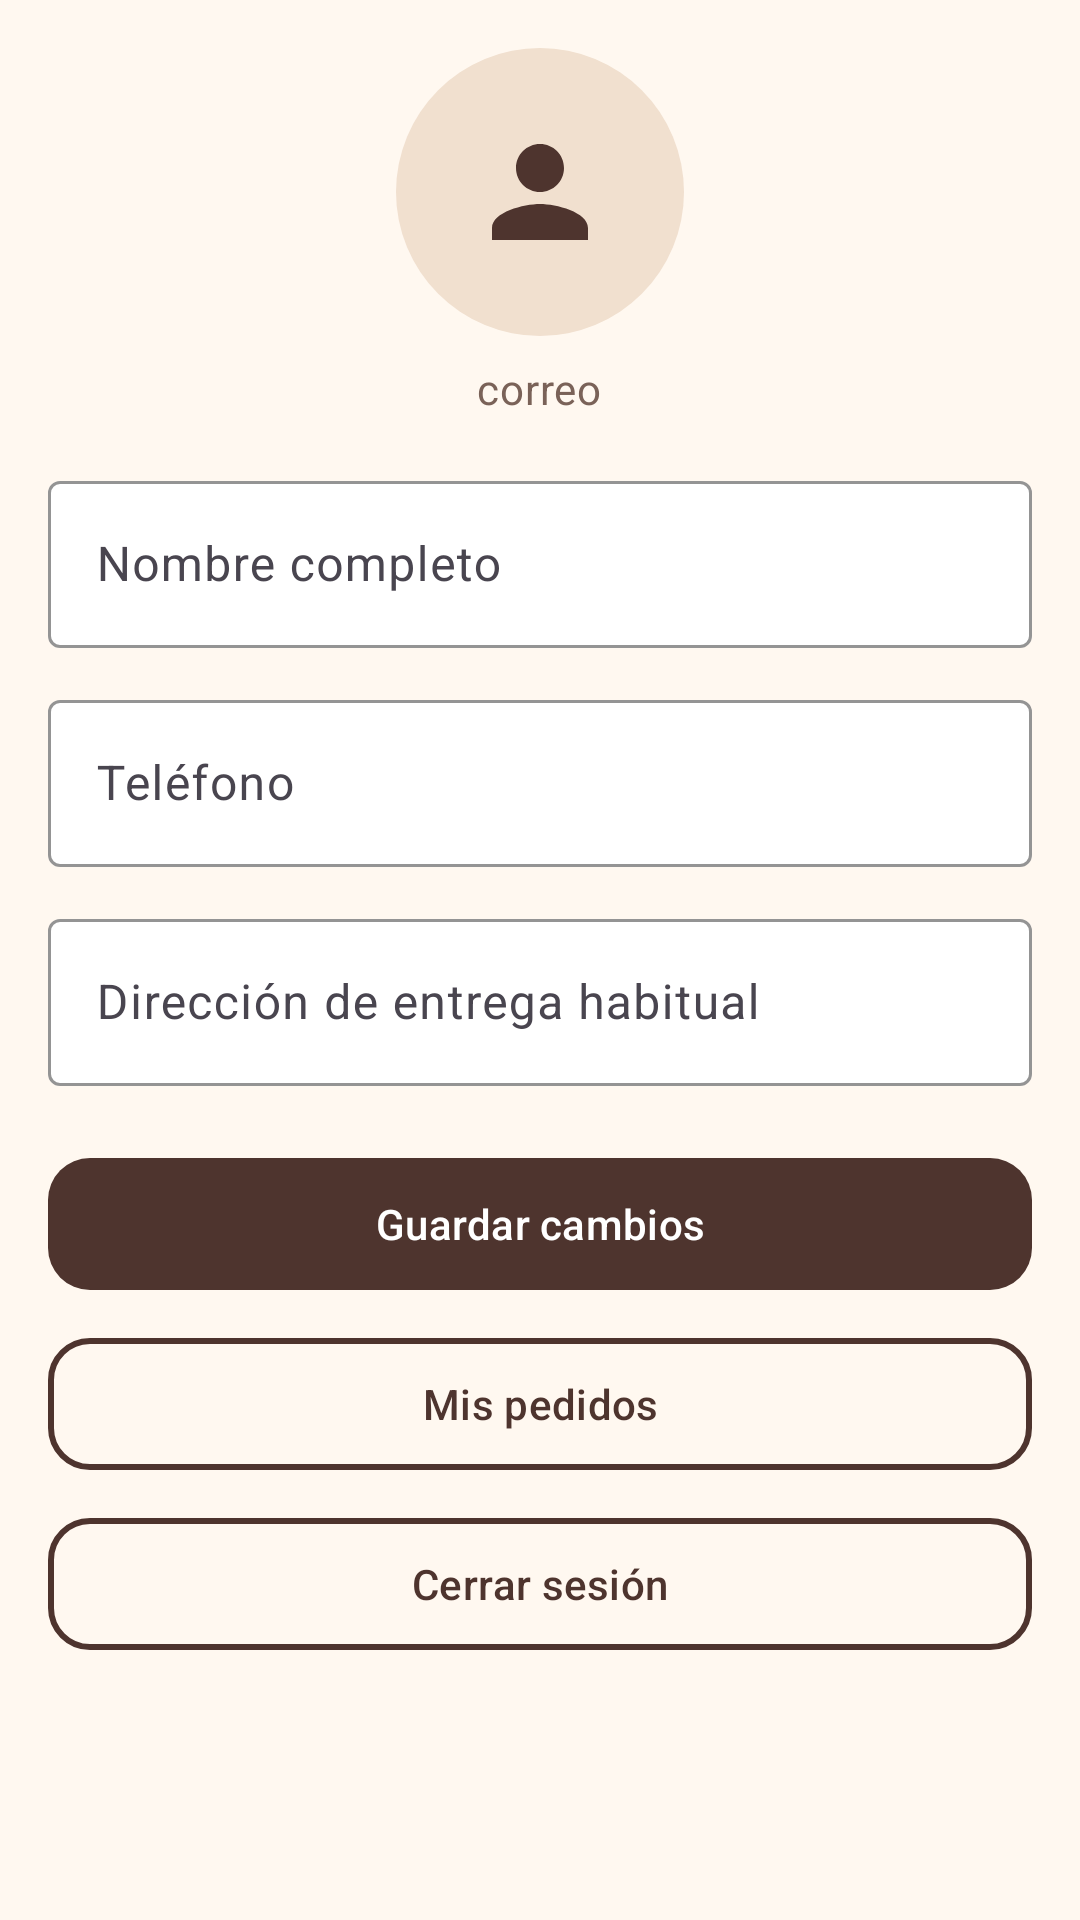

Screen size 1080w x 1920h. Icon name, then its center in pixels as [x,y]:
person: [540,192]
